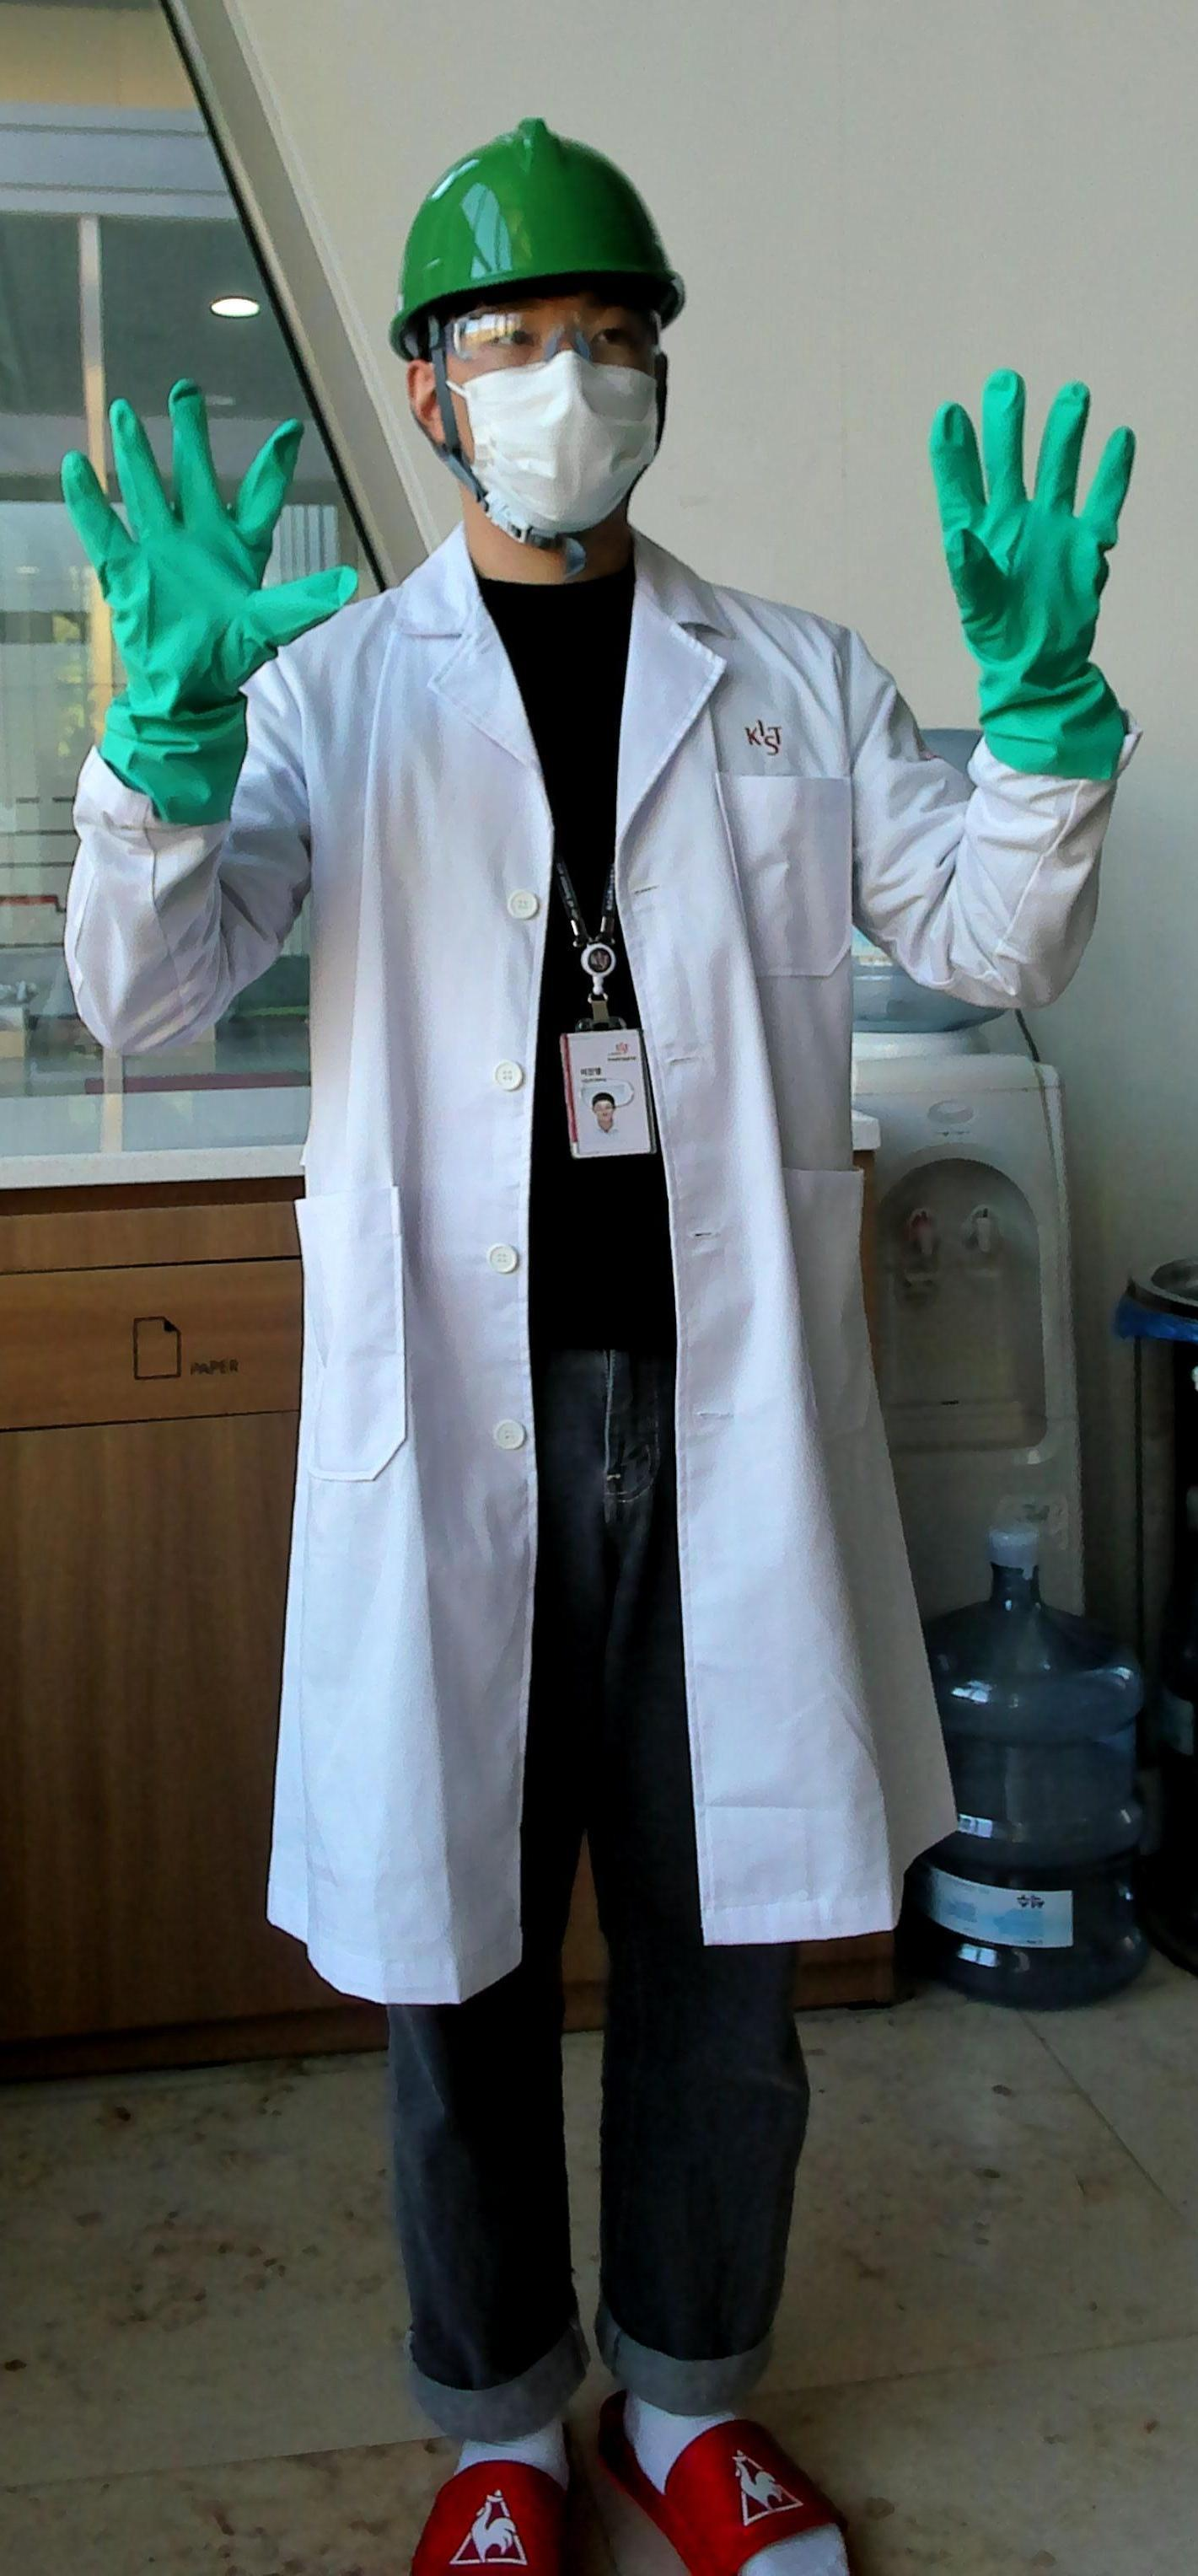lab_coat: (271, 662, 927, 1930)
